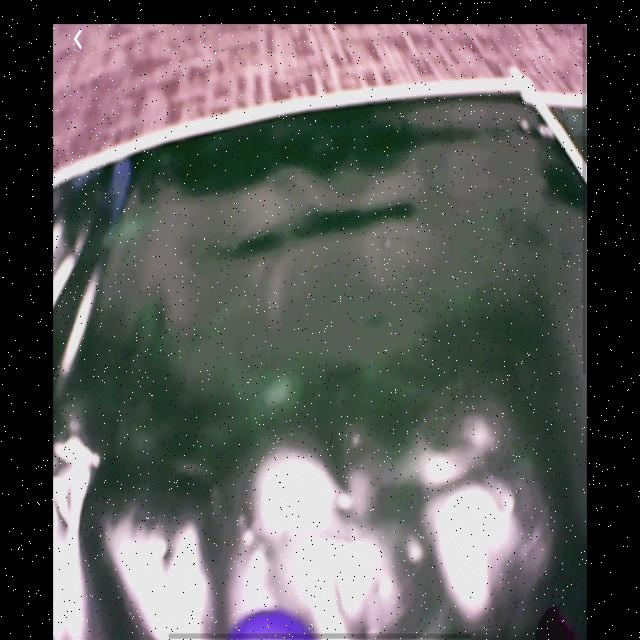ball: (228, 607, 314, 637)
